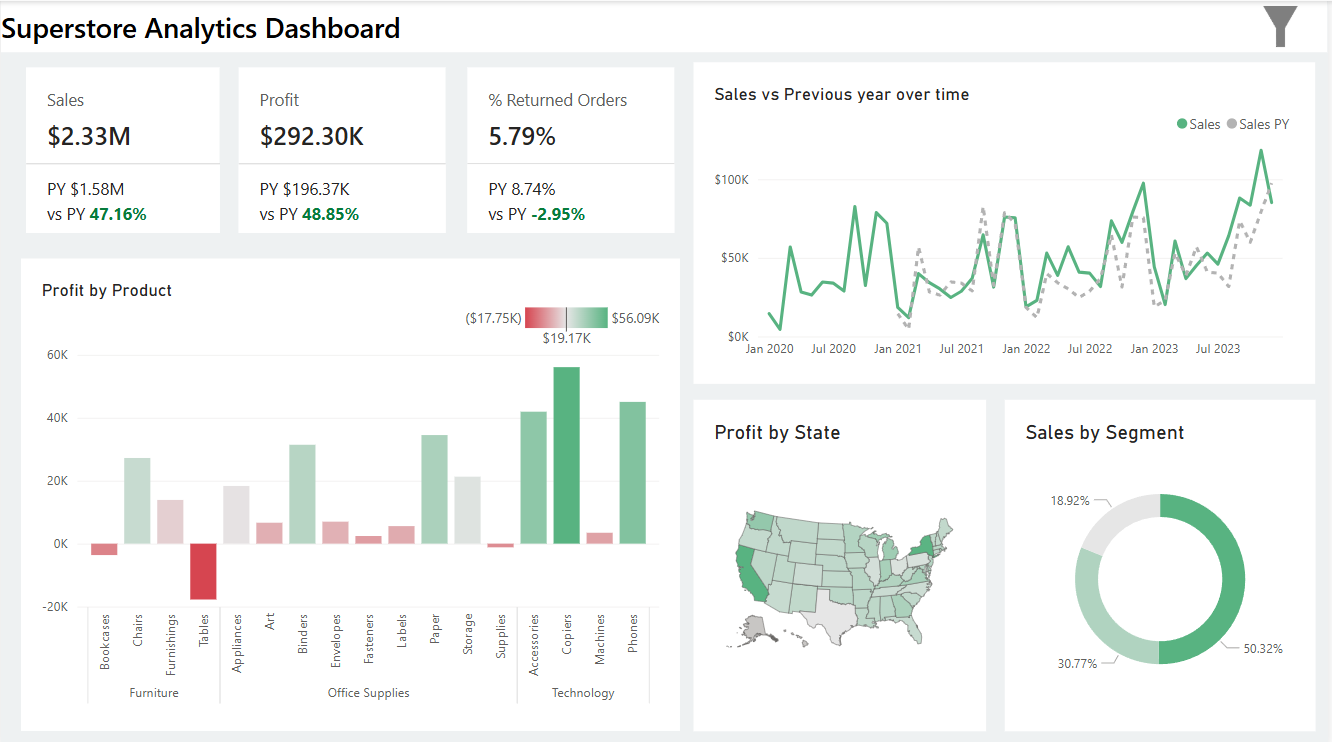

This screenshot's page, from the dashboard's own definition file:
{"tool":"powerbi","page":{"name":"Superstore Sales Dashboard","canvas":[1280,720],"ordinal":0},"visuals":[{"type":"cardVisual","fields":{"Data":["Key Measures.Sales"]},"box":[18.8,58.8,197.5,170],"z":0},{"type":"shape","box":[0,0,1280,49.5],"z":1000},{"type":"lineChart","title":"Sales vs Previous year over time","fields":{"Y":["Key Measures.Sales","Key Measures.Sales PY"],"Category":["Date Table.Start of Month"]},"box":[668.8,58.8,600,310],"z":2000},{"type":"image","title":"Filter","box":[1188.4,0,91.2,50],"z":2250,"group":"g1"},{"type":"columnChart","title":"Profit by Product","fields":{"Category":["Orders.Category","Orders.Sub-Category"],"Y":["Sum(Orders.Profit)"]},"box":[18.8,248.8,636.2,456.2],"z":3000},{"type":"cardVisual","fields":{"Data":["Key Measures.Profit"]},"box":[225,58.8,210,170],"z":4000},{"type":"cardVisual","fields":{"Data":["Key Measures.% Returned Orders"]},"box":[445,58.8,210,170],"z":5000},{"type":"shapeMap","title":"Profit by State","fields":{"Value":["Key Measures.Profit"],"Category":["Orders.State/Province"]},"box":[668.8,385,282.5,320],"z":6000},{"type":"donutChart","title":"Sales by Segment","fields":{"Category":["Orders.Segment"],"Y":["Key Measures.Sales"]},"box":[968.8,385,300,320],"z":7000},{"type":"group","id":"g1","title":"Slicer Panel","box":[751.2,0,528.4,386.2],"z":8000}]}

Visuals, with their boxes in screenshot pixels (x1, y1, x2, y2), scaled from the page's 1280x720 canvas onto the 1332x742 screenshot:
cardVisual - Key Measures.Sales: l=20, t=61, r=225, b=236
shape: l=0, t=0, r=1331, b=51
"Sales vs Previous year over time" lineChart: l=696, t=61, r=1320, b=380
"Filter" image: l=1237, t=0, r=1331, b=52
"Profit by Product" columnChart: l=20, t=256, r=682, b=727
cardVisual - Key Measures.Profit: l=234, t=61, r=453, b=236
cardVisual - Key Measures.% Returned Orders: l=463, t=61, r=682, b=236
"Profit by State" shapeMap: l=696, t=397, r=990, b=727
"Sales by Segment" donutChart: l=1008, t=397, r=1320, b=727
"Slicer Panel" group: l=782, t=0, r=1331, b=398
